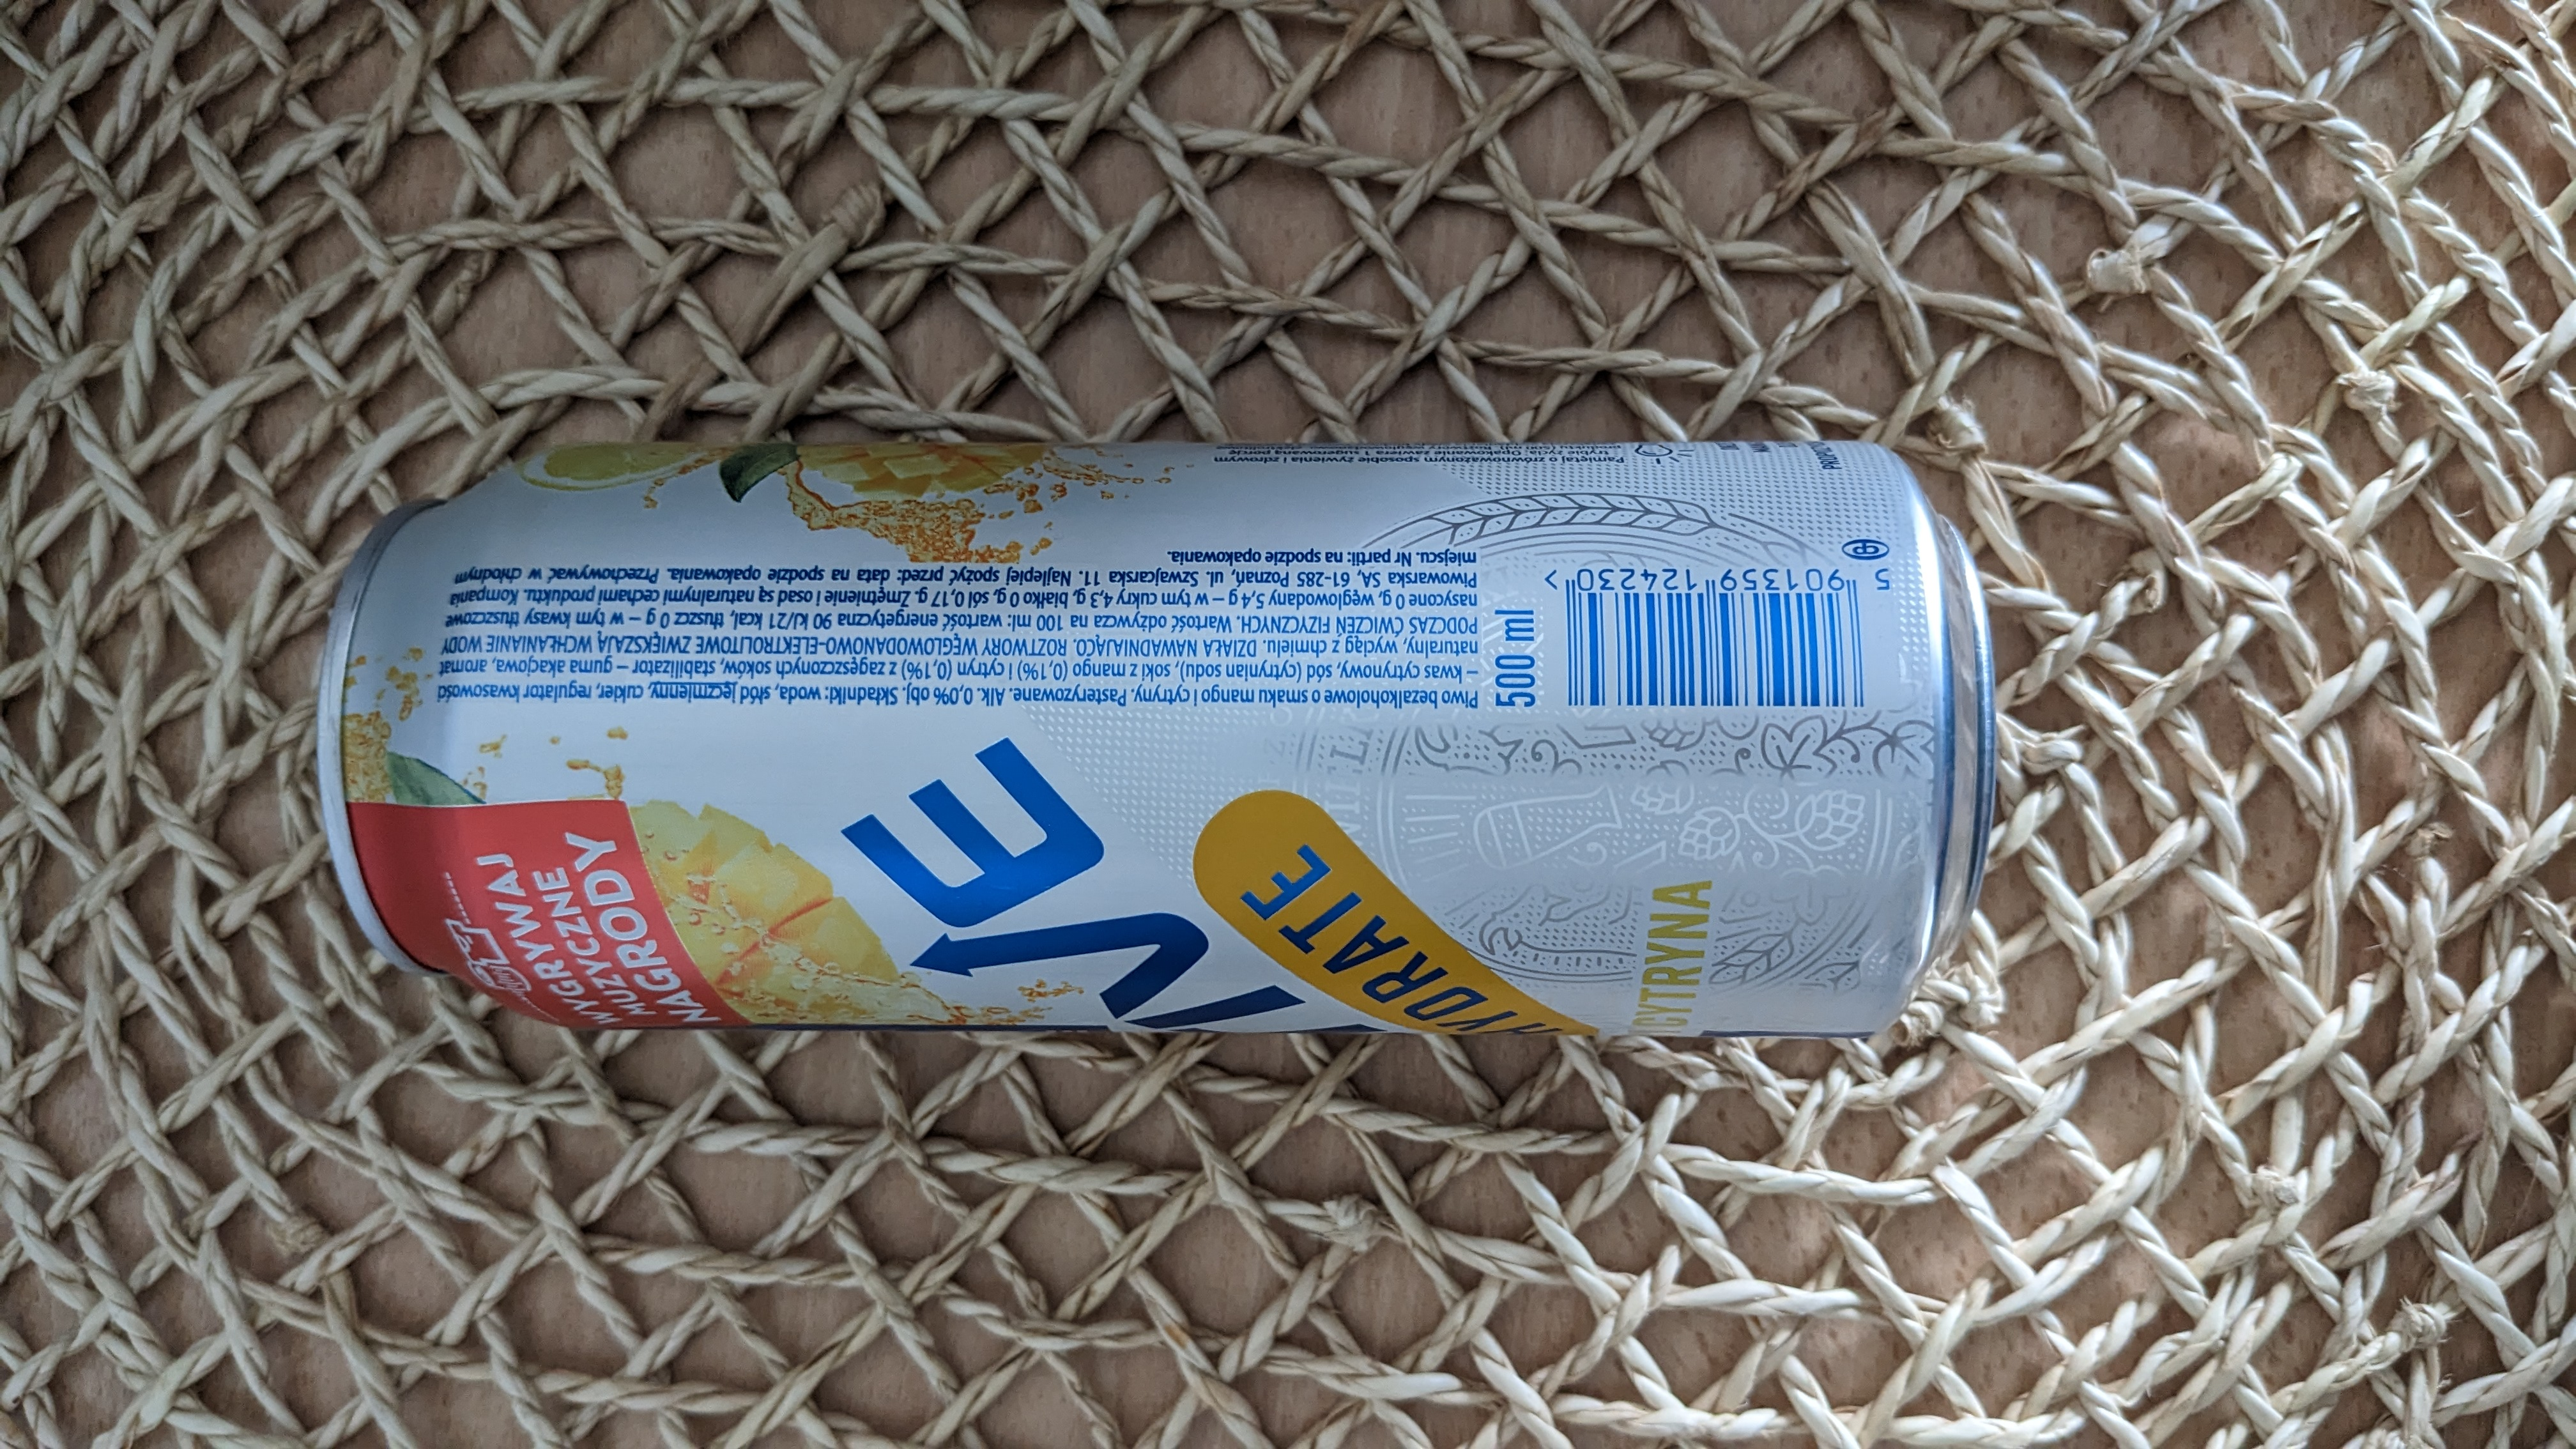lech-active: (253, 400, 2054, 1069)
